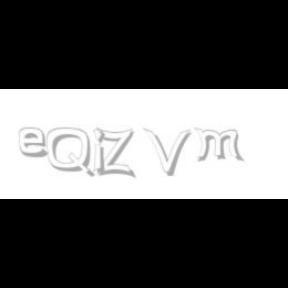Q: (47, 128, 93, 178)
V: (143, 128, 191, 176)
Z: (97, 128, 134, 178)
e: (18, 128, 52, 158)
i: (93, 128, 109, 176)
m: (193, 128, 245, 162)
